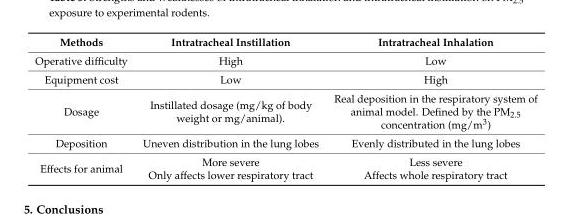table: (34, 35, 536, 180)
table column: (325, 35, 536, 180), (134, 35, 325, 180), (34, 35, 134, 180)
table column header: (34, 35, 536, 51)
table row: (34, 88, 536, 133), (34, 152, 536, 180), (34, 69, 536, 88), (34, 133, 536, 152), (34, 51, 536, 69), (34, 35, 536, 51)
